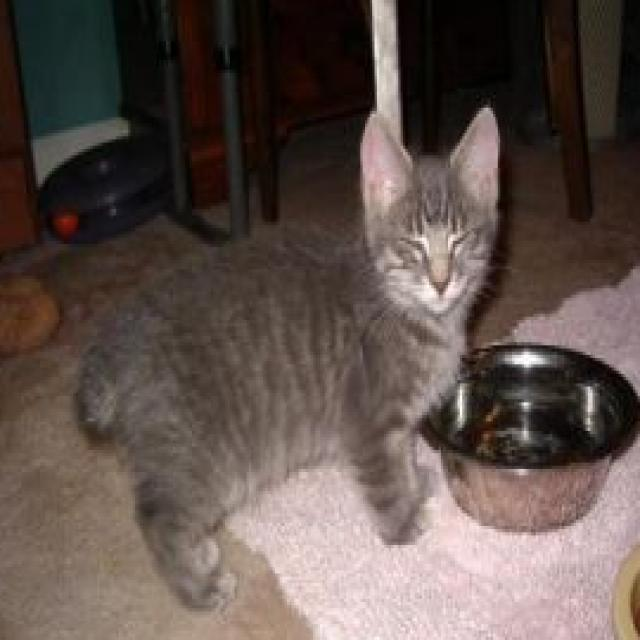American Bobtail: (70, 96, 504, 607)
